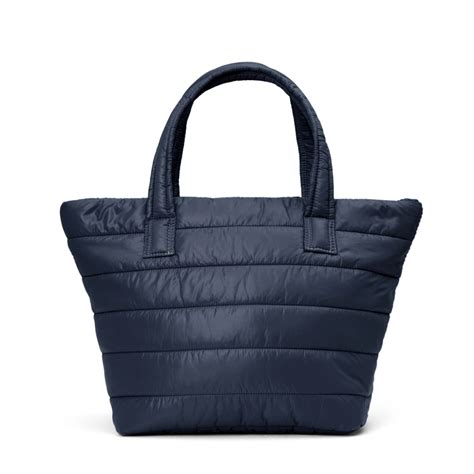nylon: (59, 61, 421, 436)
